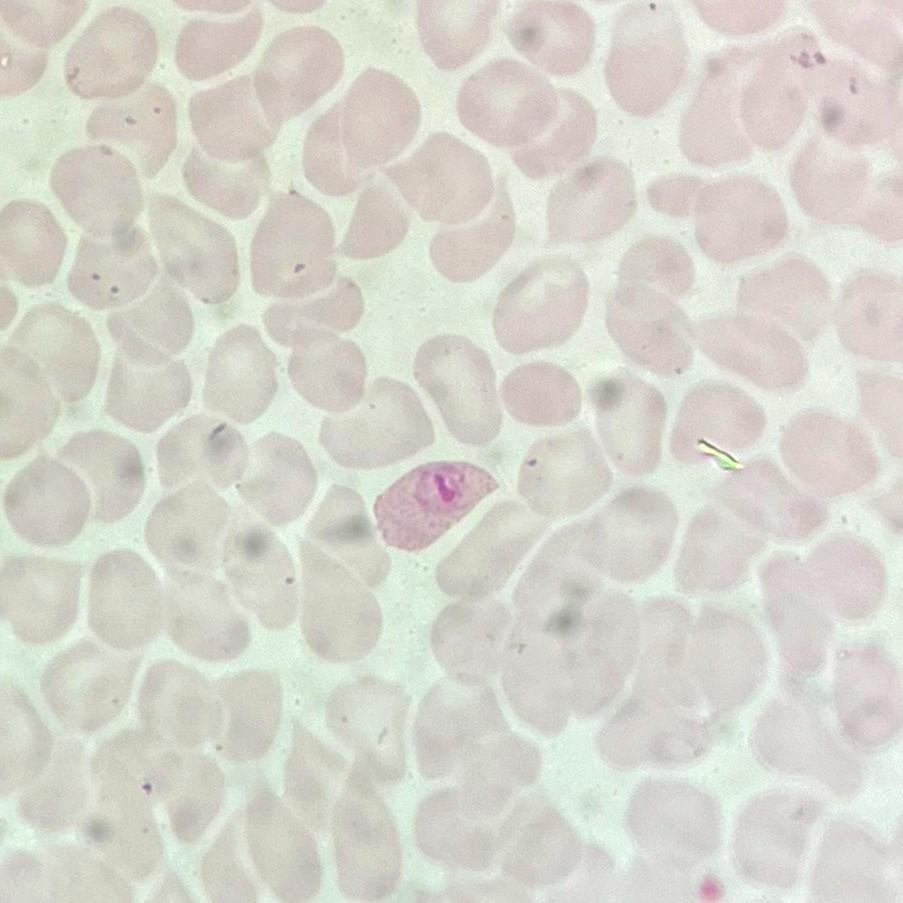Infected: (373, 460, 496, 552)
Uninfected: (488, 597, 612, 729), (296, 71, 422, 194), (411, 680, 530, 788), (555, 485, 678, 589), (679, 48, 783, 170), (431, 496, 548, 602), (660, 604, 764, 722), (472, 796, 594, 893), (788, 133, 899, 239), (691, 453, 815, 547), (379, 130, 493, 232), (456, 58, 573, 157), (751, 686, 862, 790), (293, 537, 382, 664), (613, 778, 721, 880), (145, 193, 240, 308), (4, 300, 100, 413), (248, 190, 343, 303), (321, 772, 408, 895), (320, 377, 433, 470), (412, 780, 523, 874), (133, 658, 233, 762), (489, 257, 591, 357), (144, 474, 242, 578), (600, 4, 689, 118), (232, 791, 324, 901), (412, 333, 503, 444), (782, 531, 884, 630), (686, 309, 805, 393), (154, 561, 254, 660), (277, 726, 367, 836), (130, 742, 226, 845), (39, 634, 134, 738), (50, 143, 150, 241), (730, 789, 827, 890), (303, 485, 391, 596), (674, 498, 773, 596), (80, 87, 181, 183), (63, 8, 163, 103), (778, 408, 880, 501), (425, 185, 518, 286), (539, 158, 640, 250), (57, 428, 148, 530), (218, 522, 302, 632), (250, 24, 345, 121), (736, 253, 834, 347), (689, 172, 789, 264), (427, 596, 520, 693), (668, 380, 766, 471), (322, 675, 411, 775), (153, 407, 249, 498), (281, 328, 379, 417), (84, 549, 167, 654), (518, 429, 613, 520), (3, 453, 93, 549), (616, 694, 726, 772), (585, 371, 669, 473), (812, 60, 902, 155), (188, 75, 279, 168), (105, 277, 199, 367), (230, 431, 316, 528), (13, 735, 92, 840), (1, 547, 84, 645), (606, 285, 695, 376), (102, 343, 190, 434), (204, 664, 283, 765), (67, 229, 160, 314), (263, 275, 367, 350), (201, 328, 280, 426), (823, 643, 898, 745), (805, 814, 892, 900), (499, 1, 597, 77), (179, 139, 265, 221), (173, 8, 267, 83), (832, 269, 903, 364), (337, 180, 411, 267), (1, 198, 69, 289), (415, 2, 501, 72), (613, 234, 695, 307), (504, 361, 581, 426)
